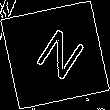N_SW: (25, 23, 85, 87)
